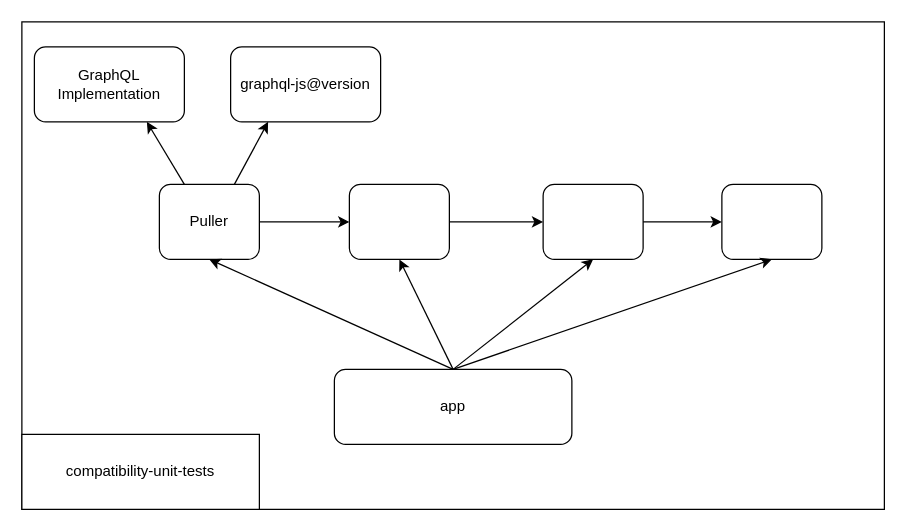
This 906x531 diagram has some shape labels left out. Here are the shapes that lost their labels. From the top down, the centre of each, then its label:
point (398, 221): Extractor
point (592, 221): Validator
point (771, 221): Result
